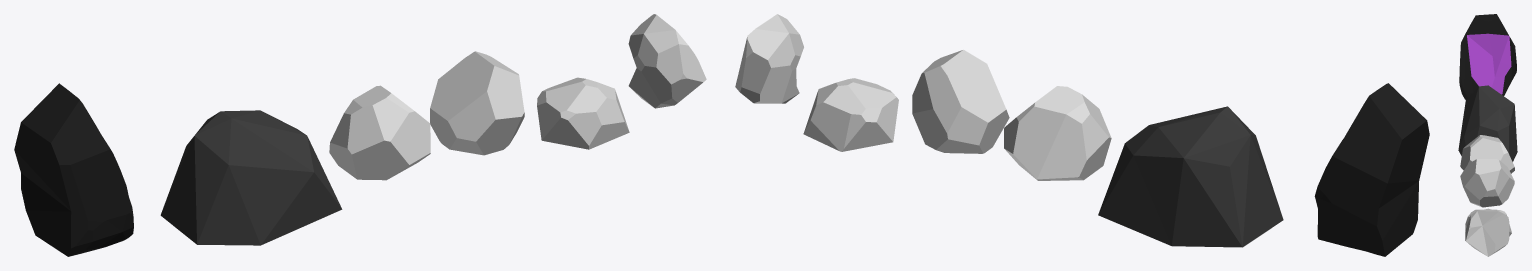
File: RocksTemp.fbx
3 renders of one model, left to right at view 1: azimuth 30°, elevation 25°; view 2: azimuth 150°, elevation 25°; view 3: azimuth 270°, elevation 25°, orthographic. The views are drawn at different scales.
Visible parts, largest first — view 1: Sphere, Sphere.003, Sphere.002, Sphere.001, Icosphere, Icosphere.001; view 2: Sphere, Sphere.003, Sphere.002, Sphere.001, Icosphere, Icosphere.001; view 3: Sphere.003, Sphere, Sphere.002, Icosphere.001, Sphere.001, Icosphere.
Boxes of the visible parts, x1,y1,x2,y2 form: Sphere: [160, 110, 342, 245]; Sphere.003: [14, 83, 133, 256]; Sphere.002: [430, 51, 524, 155]; Sphere.001: [329, 85, 430, 180]; Icosphere: [537, 77, 629, 149]; Icosphere.001: [628, 14, 706, 108]; Sphere: [1098, 106, 1283, 247]; Sphere.003: [1314, 83, 1429, 256]; Sphere.002: [912, 49, 1009, 153]; Sphere.001: [1004, 86, 1111, 180]; Icosphere: [803, 78, 898, 151]; Icosphere.001: [735, 14, 803, 103]; Sphere.003: [1459, 14, 1516, 99]; Sphere: [1458, 85, 1517, 161]; Sphere.002: [1460, 159, 1514, 207]; Icosphere.001: [1465, 208, 1509, 256]; Sphere.001: [1460, 135, 1514, 173]; Icosphere: [1465, 209, 1511, 236].
Bounding box in the file's own units: 1348 × 344 × 197.
